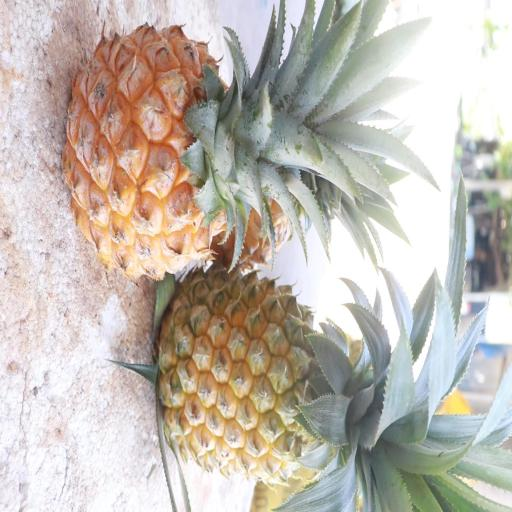Pineapple - v8 v1: (59, 19, 328, 290), (152, 258, 397, 486)
